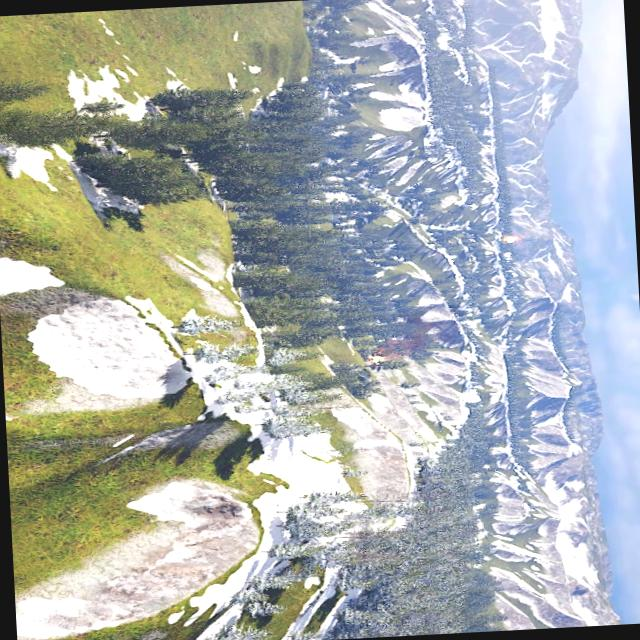fire: (364, 350, 390, 368), (504, 234, 520, 243)
smoke: (381, 322, 445, 362), (515, 227, 553, 240)
